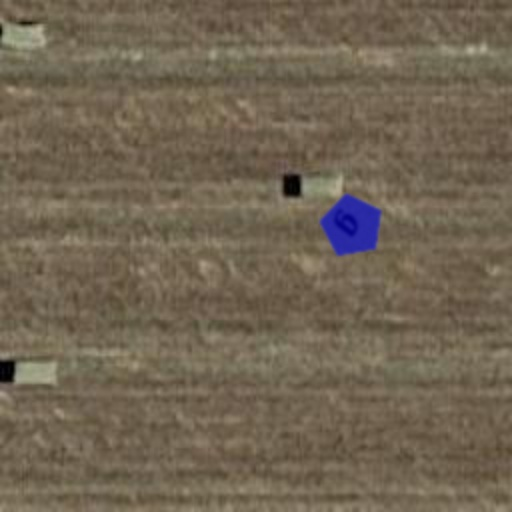pentagon: (306, 180, 398, 272)
